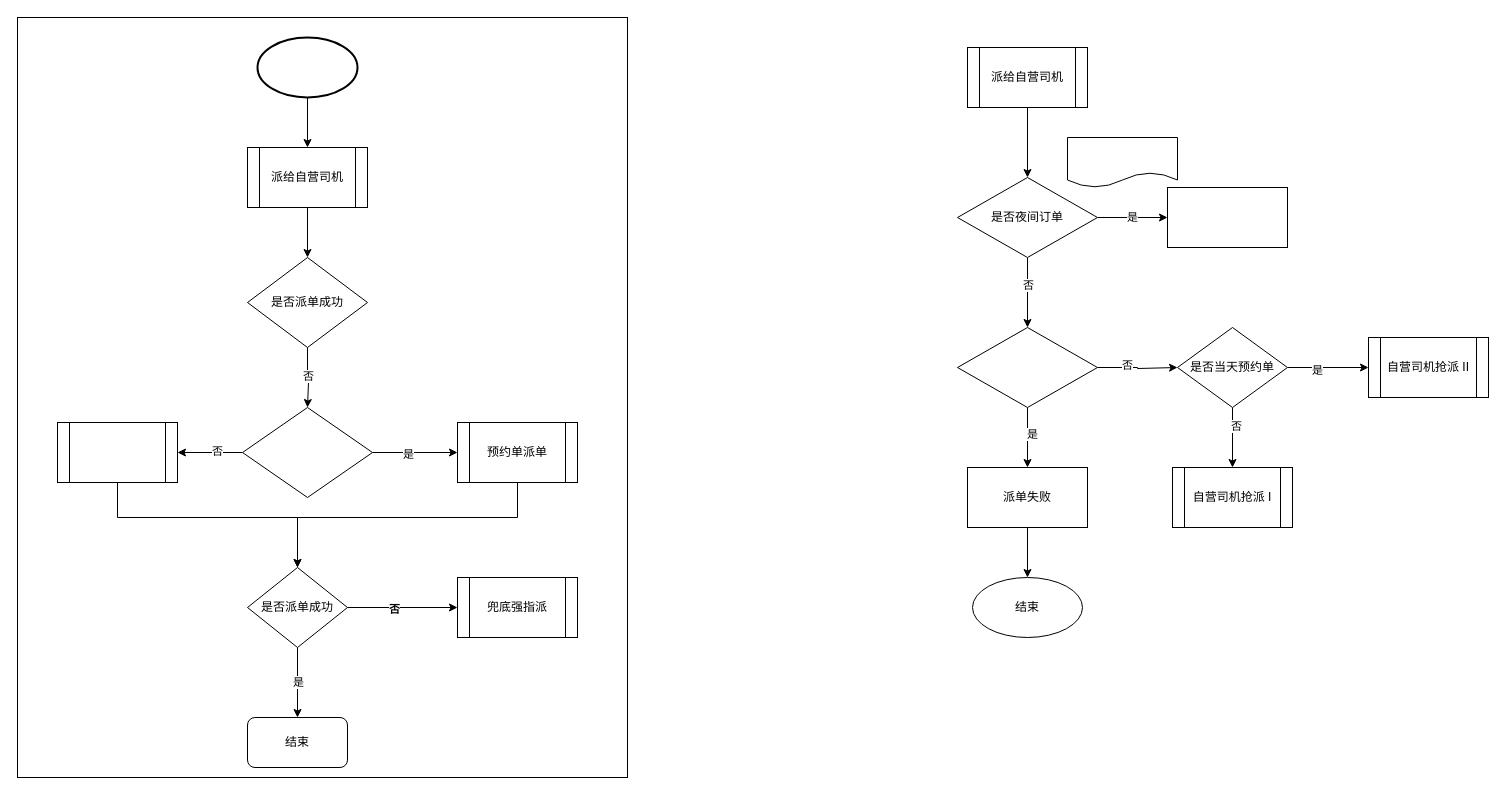
Some shapes in this 1506 by 795 pixel diagram are drawn without their labels. The shapes that lost their labels are listed below. From the top down, each one's centre as x and y in pixels, then its label:
(x=307, y=67): 开始
(x=1122, y=162): 晚9:00-早9:00（可配置）
(x=1227, y=217): 夜间派单逻辑
(x=1027, y=367): 是否是跨城订单
(x=117, y=452): 抢单池抢派
(x=307, y=452): 是否是预约单
